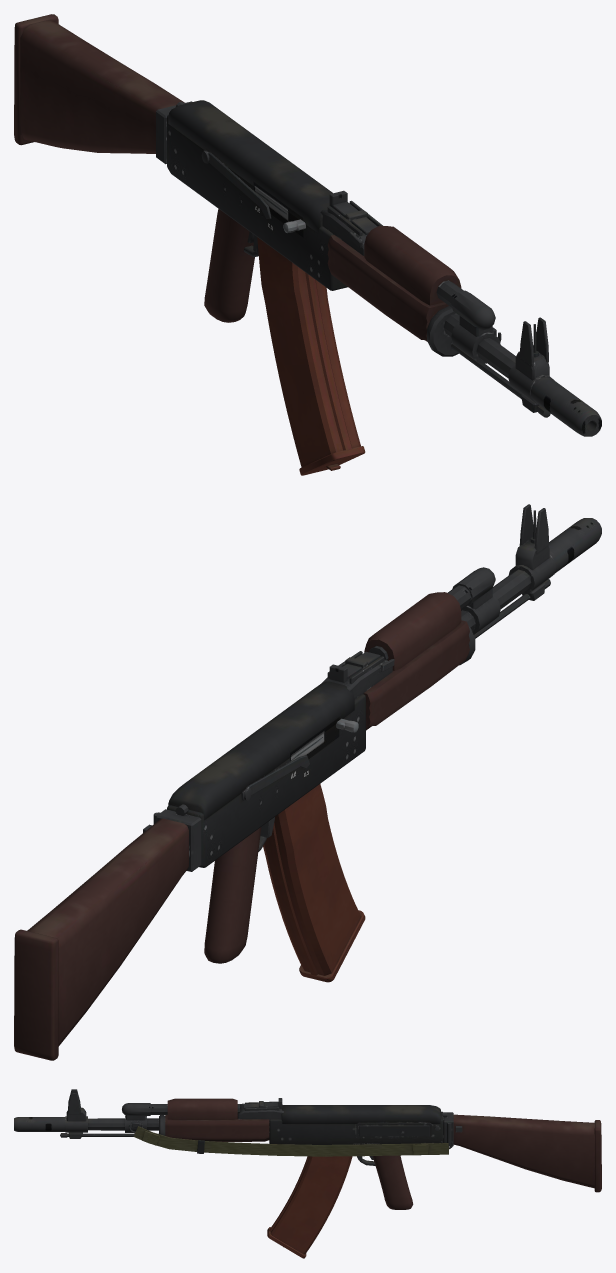
3 views of the same model, one above another, from view 1: azimuth 30°, elevation 25°; view 2: azimuth 150°, elevation 25°; view 3: azimuth 270°, elevation 25° (orthographic). The views are drawn at different scales.
Visible parts, largest first — view 1: ak74m_mesh, magazine; view 2: ak74m_mesh, magazine; view 3: ak74m_mesh, magazine.
Part boxes in pixels (x1,y1,x2,y2): ak74m_mesh: (14, 14, 601, 436); magazine: (257, 237, 365, 475); ak74m_mesh: (14, 504, 601, 1060); magazine: (263, 784, 365, 982); ak74m_mesh: (14, 1089, 601, 1209); magazine: (267, 1156, 352, 1258).
Size of what is drawn, in the model's own units: 0.067 by 0.295 by 0.96.
1 material, 1 textured.
